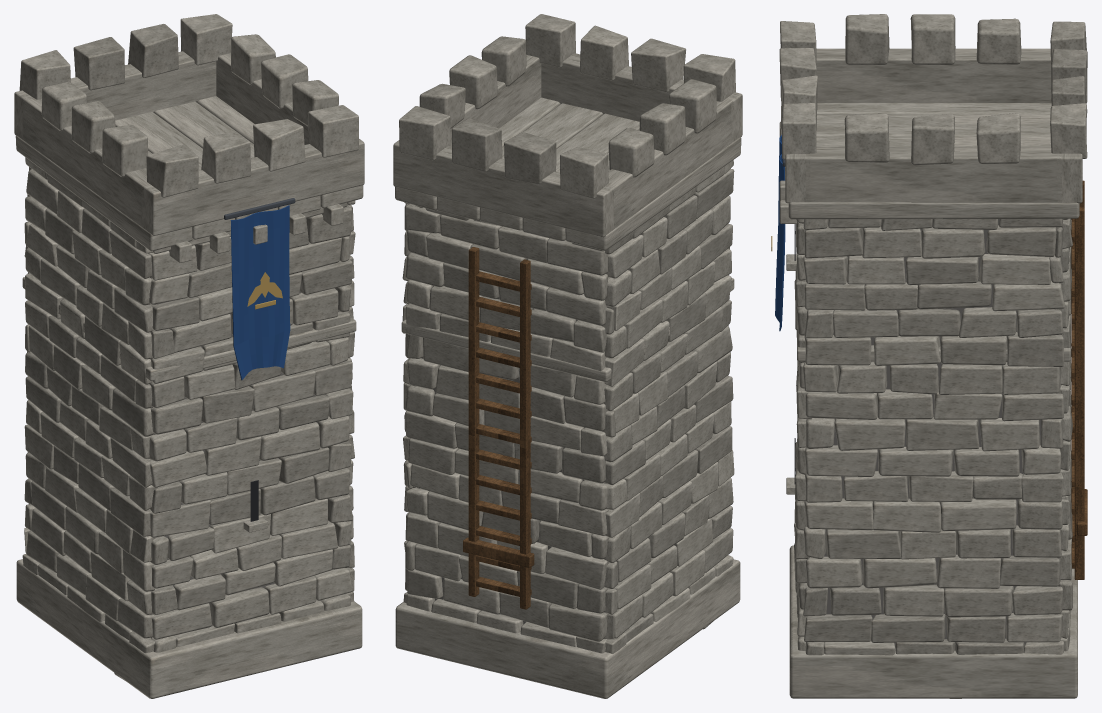
The model's file is watchtower.glb.
3 views of the same model, side by side, from view 1: azimuth 30°, elevation 25°; view 2: azimuth 150°, elevation 25°; view 3: azimuth 270°, elevation 25° (orthographic). The views are drawn at different scales.
Visible parts, largest first — view 1: V3 complete watchtower / Tower return crenel.011, V3 complete watchtower / Tower return ashlar.165, V3 complete watchtower / Tower waist stringcourse.001, V3 complete watchtower / Tower return ashlar.164, V3 complete watchtower / Tower return ashlar.157, V3 complete watchtower / Tower return ashlar.154, V3 complete watchtower / Tower return ashlar.159, V3 complete watchtower / Royal blue Valoria banner.001, V3 complete watchtower / Valoria lily embroidery.005; view 2: V3 complete watchtower / Tower return crenel.011, V3 complete watchtower / Tower return ashlar.157, V3 complete watchtower / Tower waist stringcourse.001, V3 complete watchtower / Tower return ashlar.165, V3 complete watchtower / Tower return ashlar.164, V3 complete watchtower / Tower return ashlar.154, V3 complete watchtower / Tower return ashlar.159, Tower rear oak access lintel; view 3: V3 complete watchtower / Tower return crenel.011, V3 complete watchtower / Tower waist stringcourse.001, V3 complete watchtower / Tower return ashlar.157, V3 complete watchtower / Tower return ashlar.154, V3 complete watchtower / Tower return ashlar.159, V3 complete watchtower / Tower return ashlar.164, V3 complete watchtower / Tower return ashlar.165, Tower rear oak access lintel, V3 complete watchtower / Tower structural core.001, V3 complete watchtower / Royal blue Valoria banner.001.
Boxes of the visible parts, x1=… form: V3 complete watchtower / Tower return crenel.011: x1=14, y1=34, x2=364, y2=652; V3 complete watchtower / Tower return ashlar.165: x1=25, y1=24, x2=354, y2=595; V3 complete watchtower / Tower waist stringcourse.001: x1=15, y1=96, x2=363, y2=698; V3 complete watchtower / Tower return ashlar.164: x1=24, y1=167, x2=354, y2=639; V3 complete watchtower / Tower return ashlar.157: x1=24, y1=14, x2=358, y2=680; V3 complete watchtower / Tower return ashlar.154: x1=26, y1=119, x2=353, y2=621; V3 complete watchtower / Tower return ashlar.159: x1=22, y1=157, x2=354, y2=653; V3 complete watchtower / Royal blue Valoria banner.001: x1=230, y1=205, x2=290, y2=380; V3 complete watchtower / Valoria lily embroidery.005: x1=247, y1=272, x2=282, y2=309; V3 complete watchtower / Tower return crenel.011: x1=393, y1=36, x2=742, y2=614; V3 complete watchtower / Tower return ashlar.157: x1=399, y1=14, x2=731, y2=653; V3 complete watchtower / Tower waist stringcourse.001: x1=395, y1=97, x2=741, y2=698; V3 complete watchtower / Tower return ashlar.165: x1=404, y1=118, x2=734, y2=642; V3 complete watchtower / Tower return ashlar.164: x1=402, y1=204, x2=733, y2=639; V3 complete watchtower / Tower return ashlar.154: x1=402, y1=25, x2=734, y2=621; V3 complete watchtower / Tower return ashlar.159: x1=403, y1=203, x2=733, y2=653; Tower rear oak access lintel: x1=463, y1=247, x2=534, y2=609; V3 complete watchtower / Tower return crenel.011: x1=779, y1=14, x2=1086, y2=654; V3 complete watchtower / Tower waist stringcourse.001: x1=779, y1=103, x2=1079, y2=698; V3 complete watchtower / Tower return ashlar.157: x1=782, y1=103, x2=1087, y2=655; V3 complete watchtower / Tower return ashlar.154: x1=781, y1=75, x2=1072, y2=636; V3 complete watchtower / Tower return ashlar.159: x1=794, y1=218, x2=1071, y2=638; V3 complete watchtower / Tower return ashlar.164: x1=794, y1=218, x2=1072, y2=698; V3 complete watchtower / Tower return ashlar.165: x1=795, y1=49, x2=1087, y2=654; Tower rear oak access lintel: x1=1071, y1=180, x2=1087, y2=579; V3 complete watchtower / Tower structural core.001: x1=824, y1=219, x2=1041, y2=647; V3 complete watchtower / Royal blue Valoria banner.001: x1=775, y1=135, x2=785, y2=331.
Size of the model in its own units: 3.25 by 7.64 by 3.8.
13 materials, 8 textured.
